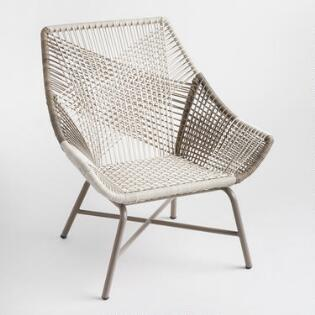chairs: (34, 17, 274, 301)
